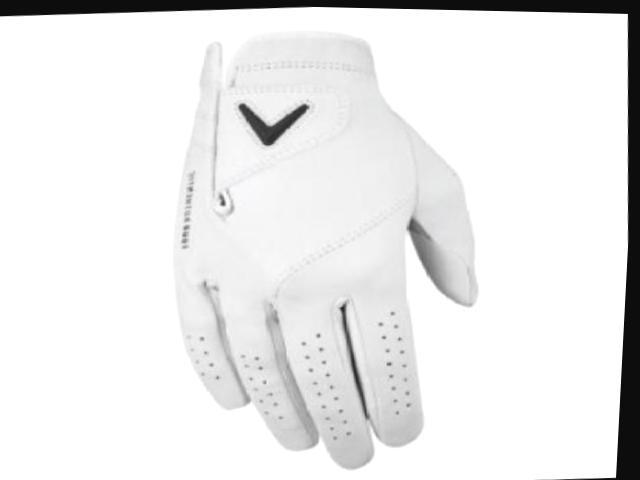Hand-in-Glove: (138, 10, 511, 480)
